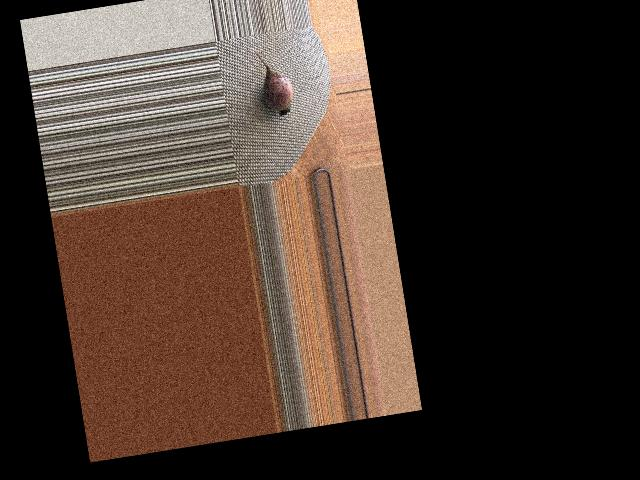beet: (249, 43, 296, 119)
